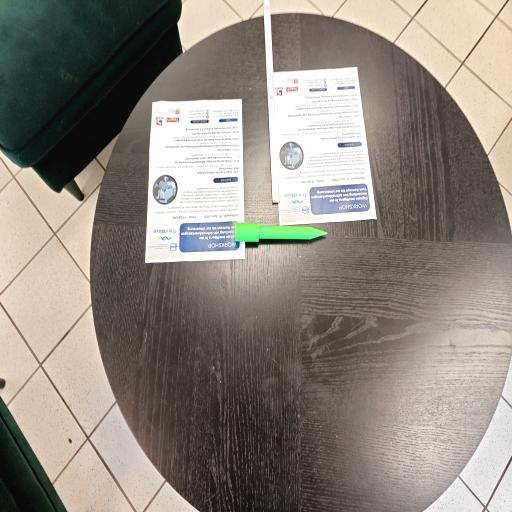Probe-Detection: (234, 222, 327, 242)
